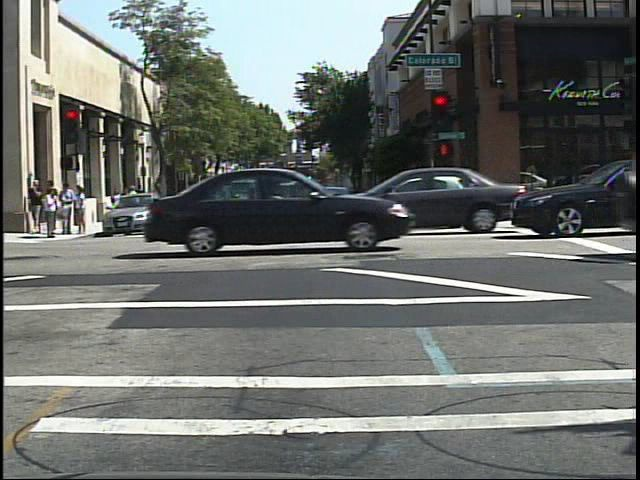person: (123, 181, 141, 221), (135, 181, 151, 218)
